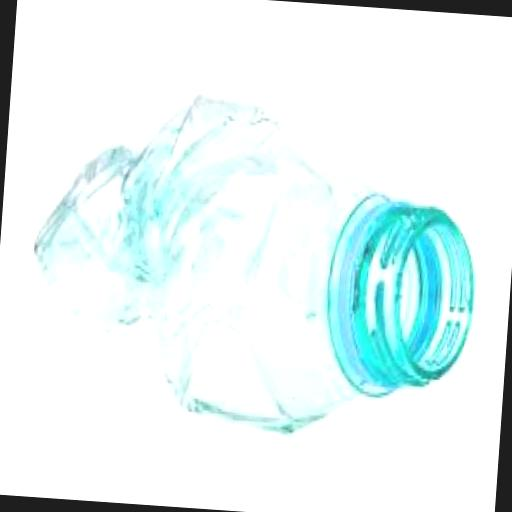plastic: (22, 84, 484, 444)
